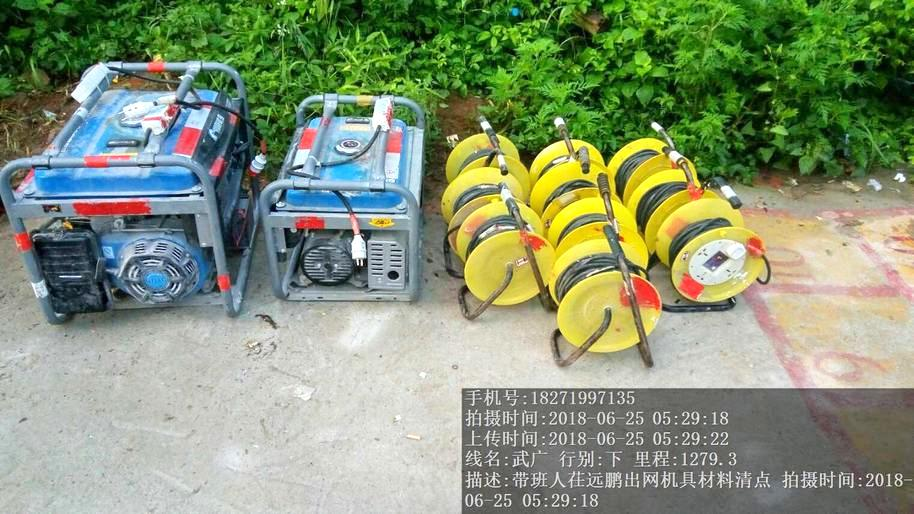DJ: (9, 65, 265, 323), (263, 91, 431, 303)
DX: (547, 236, 674, 367), (443, 205, 547, 306), (663, 209, 767, 309)
